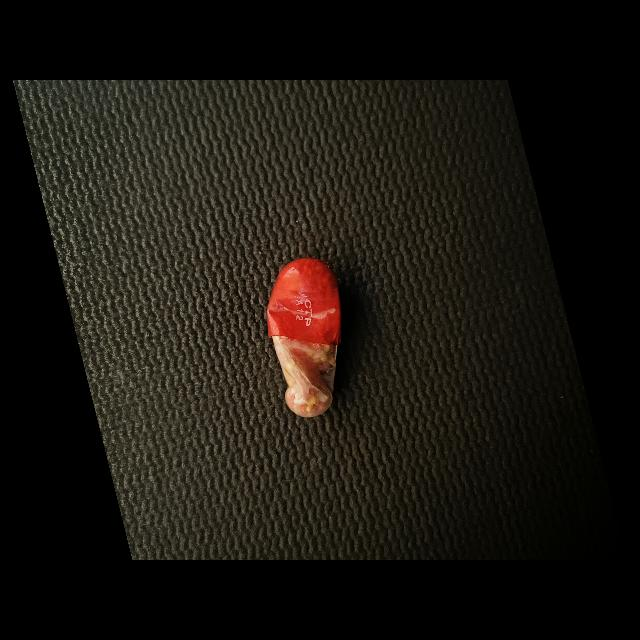Defective Capsule: (267, 258, 341, 417)
